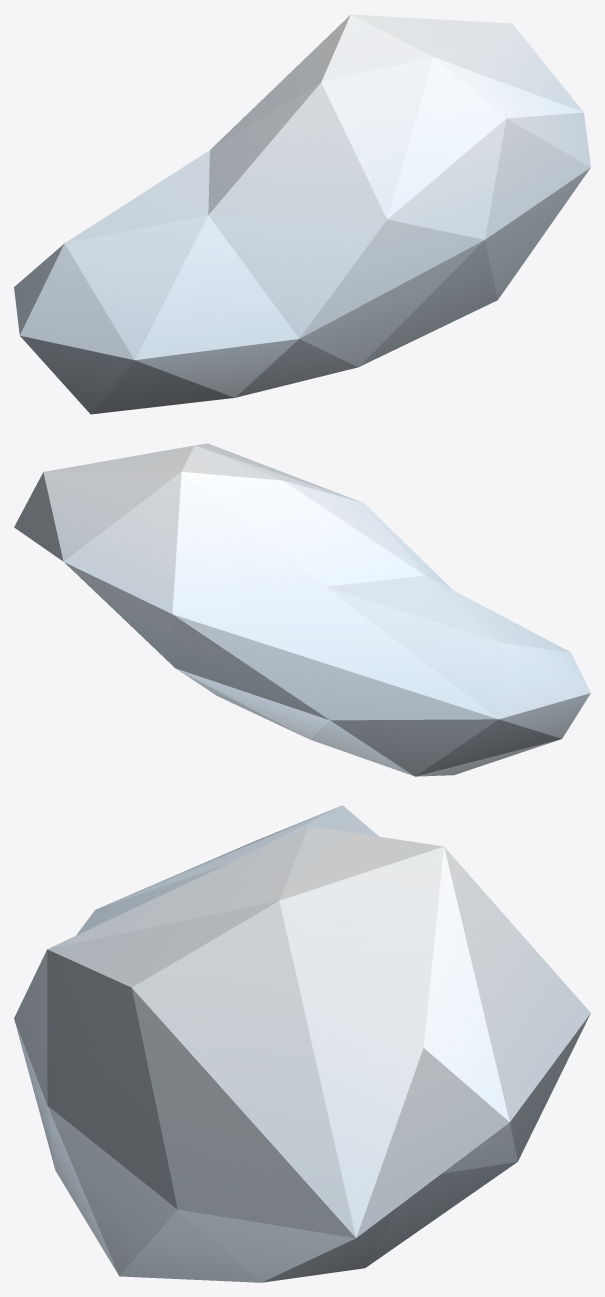
The model's file is Snowy_Cloud_003.FBX.
3 renders of one model, top to bottom at view 1: azimuth 30°, elevation 25°; view 2: azimuth 150°, elevation 25°; view 3: azimuth 270°, elevation 25°, orthographic. The views are drawn at different scales.
Parts seen in each view (by area): view 1: Snowy_Cloud_003; view 2: Snowy_Cloud_003; view 3: Snowy_Cloud_003.
Boxes of the visible parts, bbox=[...] form: Snowy_Cloud_003: bbox=[14, 14, 590, 414]; Snowy_Cloud_003: bbox=[14, 443, 590, 776]; Snowy_Cloud_003: bbox=[14, 805, 590, 1282].
Bounding box in the file's own units: 782 × 366 × 387.
Materials: 1 (1 with a texture image).
